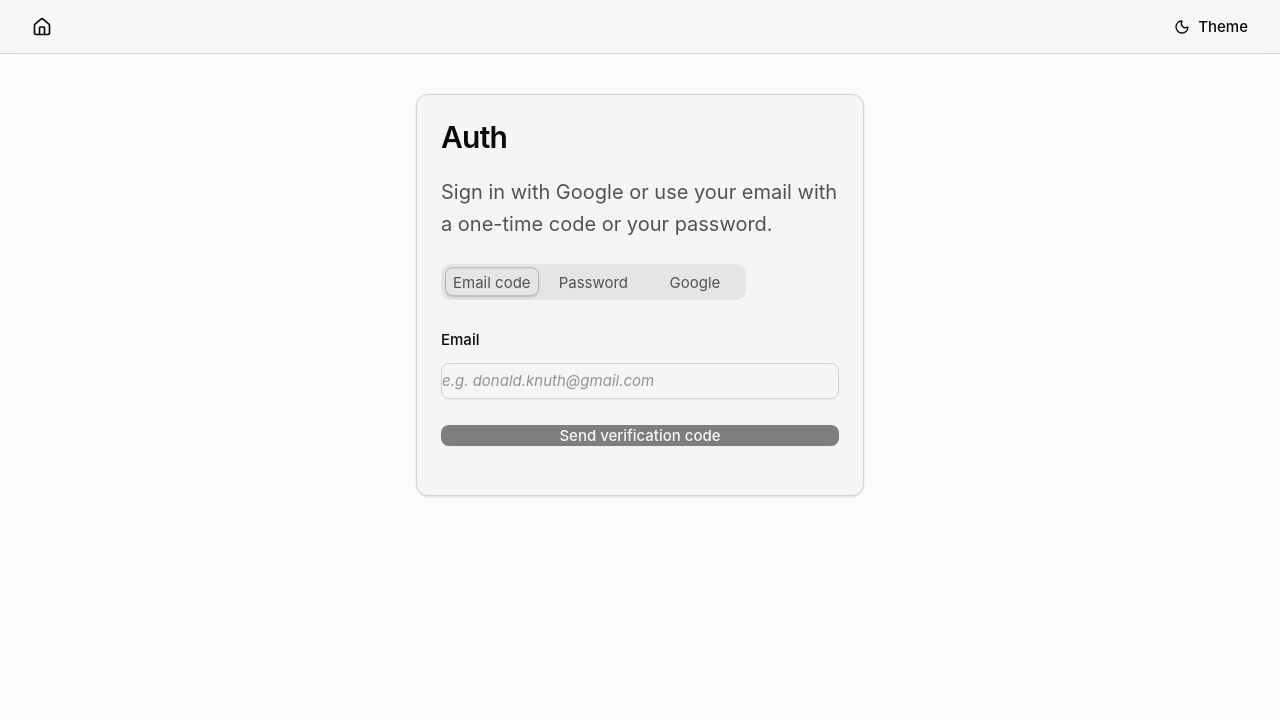
SignIn › validates email before signing in with password
Click the tab "Password" at coordinates (593, 282), box [547, 268, 640, 297]
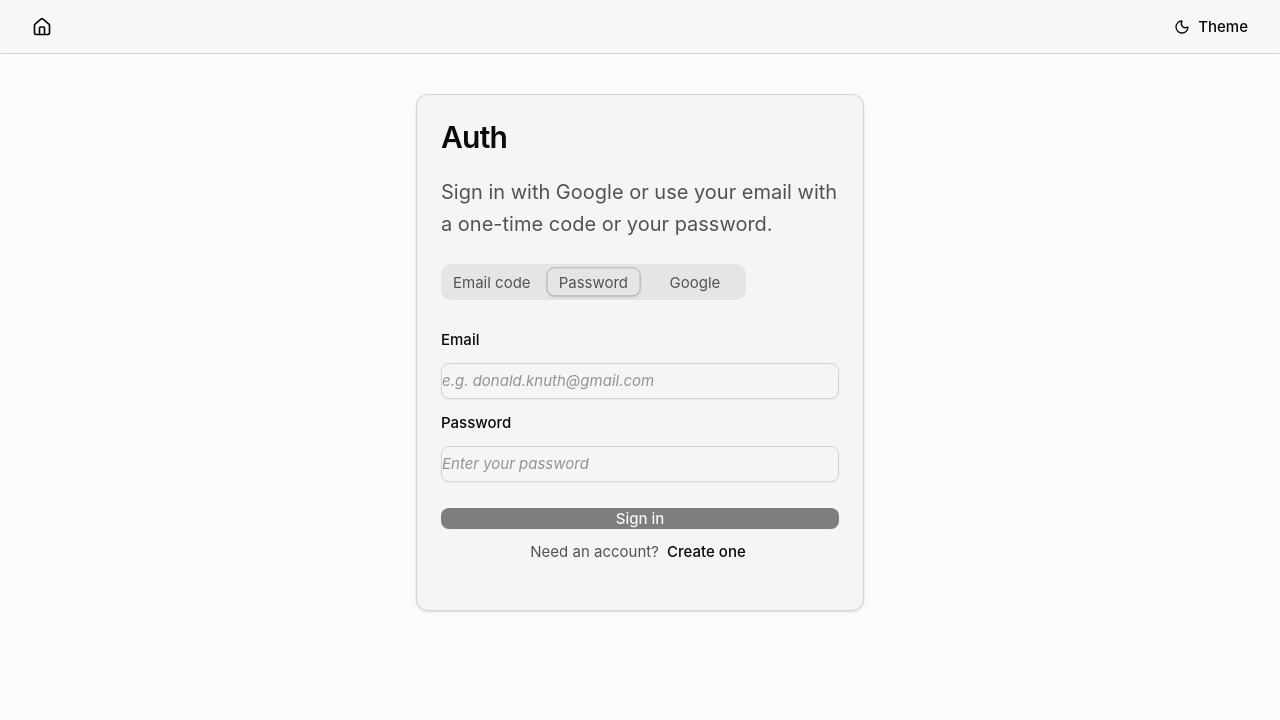
Type "invalid" into the field labelled "Email" at coordinates (640, 381), box [441, 363, 839, 399]
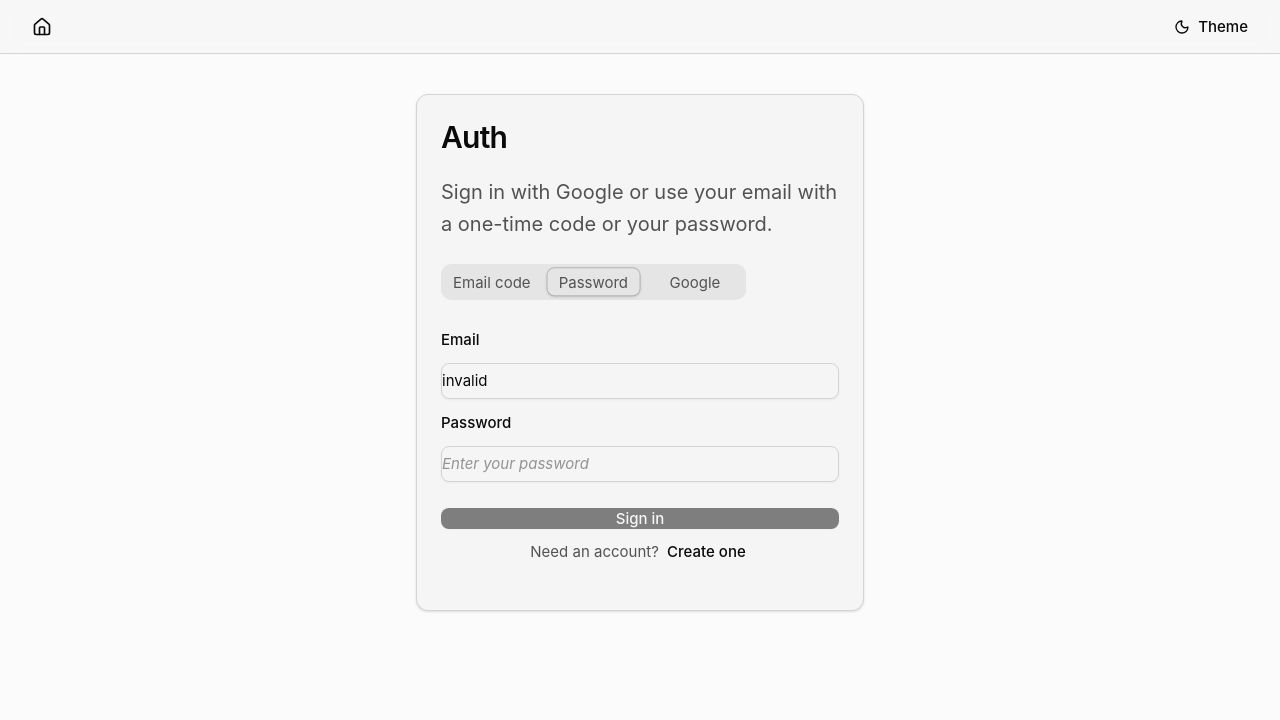
Type "hunter200" into the password field labelled "Password" at coordinates (640, 464), box [441, 446, 839, 482]
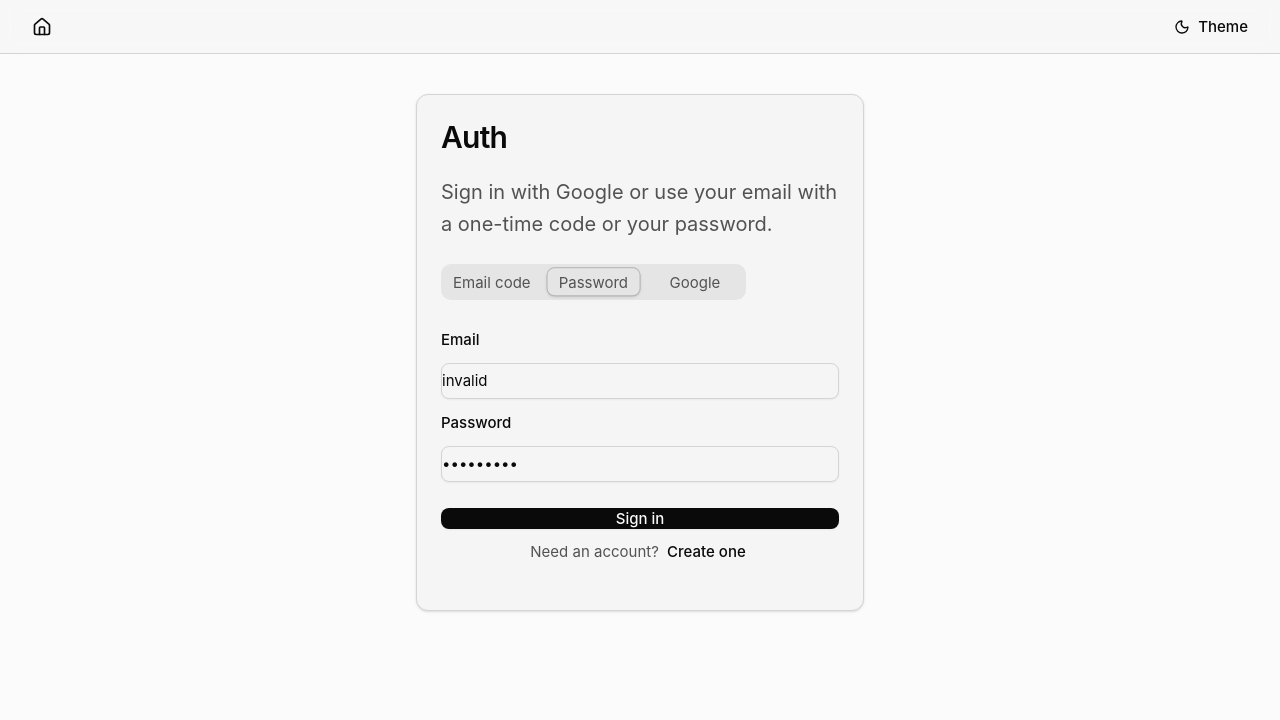
Click the button "Sign in" at coordinates (640, 518), box [441, 508, 839, 529]
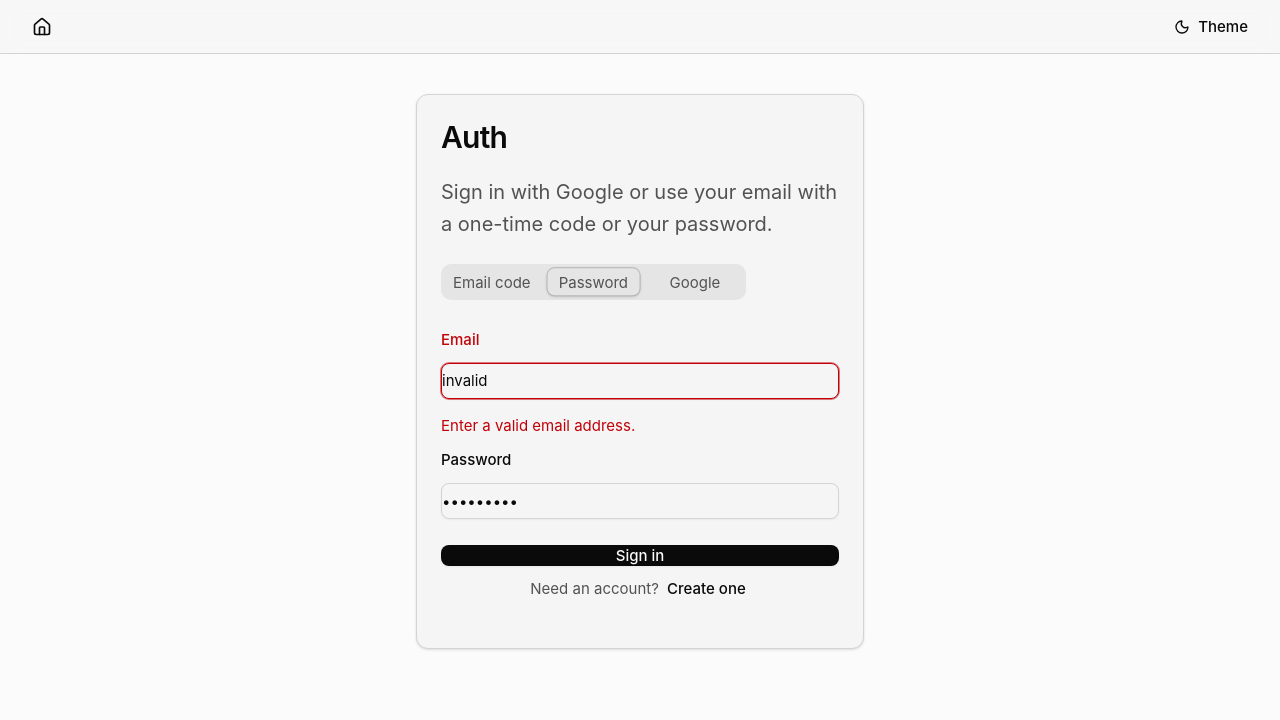
Expected: the text "Enter a valid email address." is shown, [441, 416, 635, 435]
